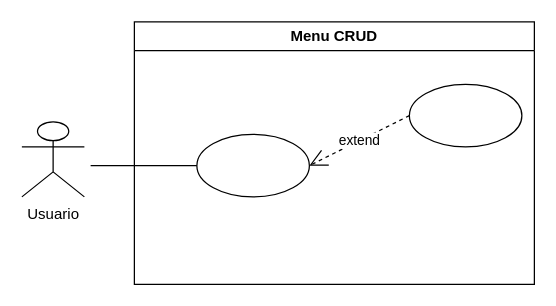
Image size: 556x306. Some labels were removed from this diagram. The shapes that lost their labels are listed below. From the top down, each one's box as (x1, y1, x2, y2) in pixels, then its label:
(408, 83, 522, 147): MOSTRAR TODOS
(196, 133, 309, 197): BUSCAR
